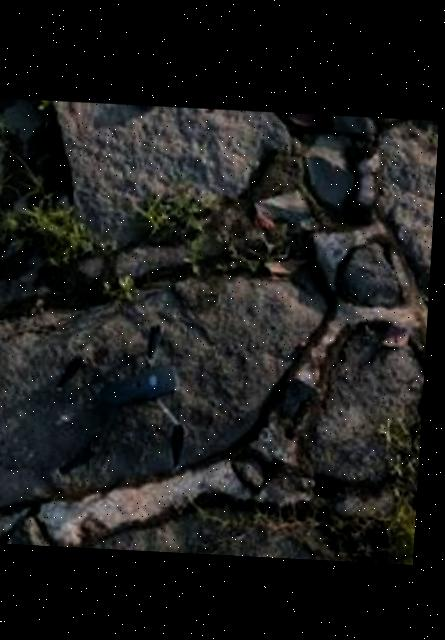drone: (47, 265, 206, 516)
